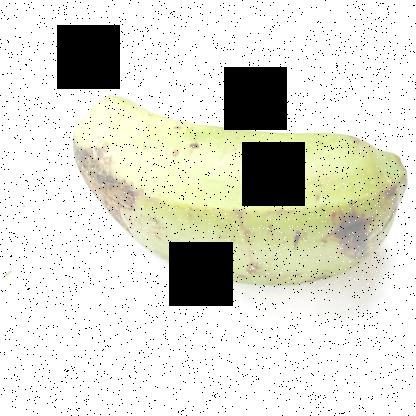unripe: (55, 85, 415, 305)
